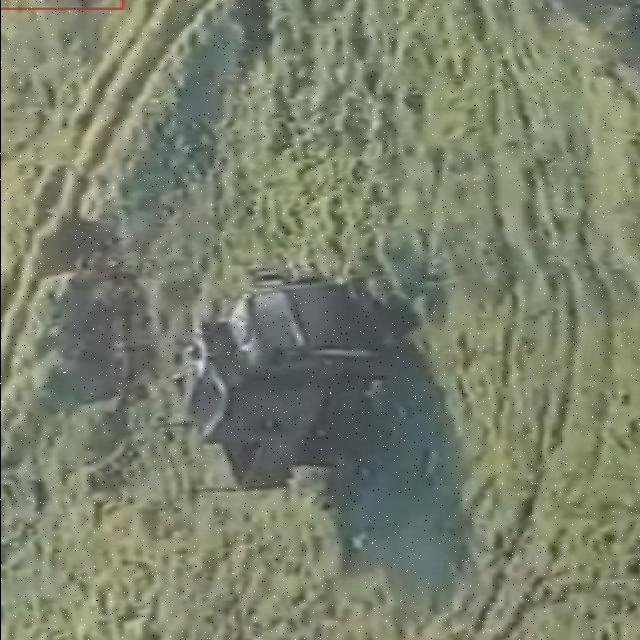TRUCK: (154, 274, 402, 504)
